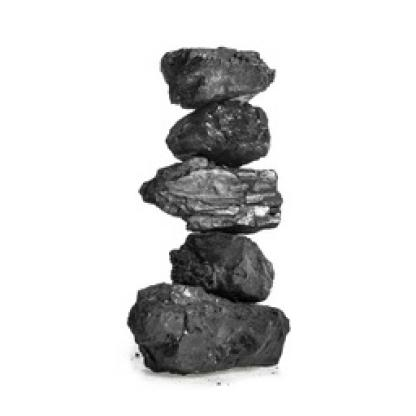Sedimentary_coal: (114, 307, 297, 381), (137, 235, 283, 300), (133, 168, 286, 228), (140, 32, 280, 97), (143, 106, 283, 159)
